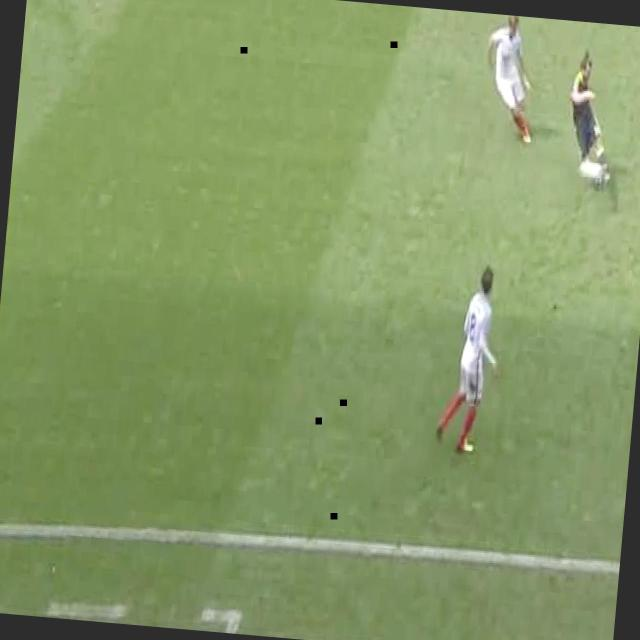ball: (595, 161, 611, 190)
player-white: (435, 262, 508, 458), (479, 14, 541, 142), (564, 50, 620, 183)
